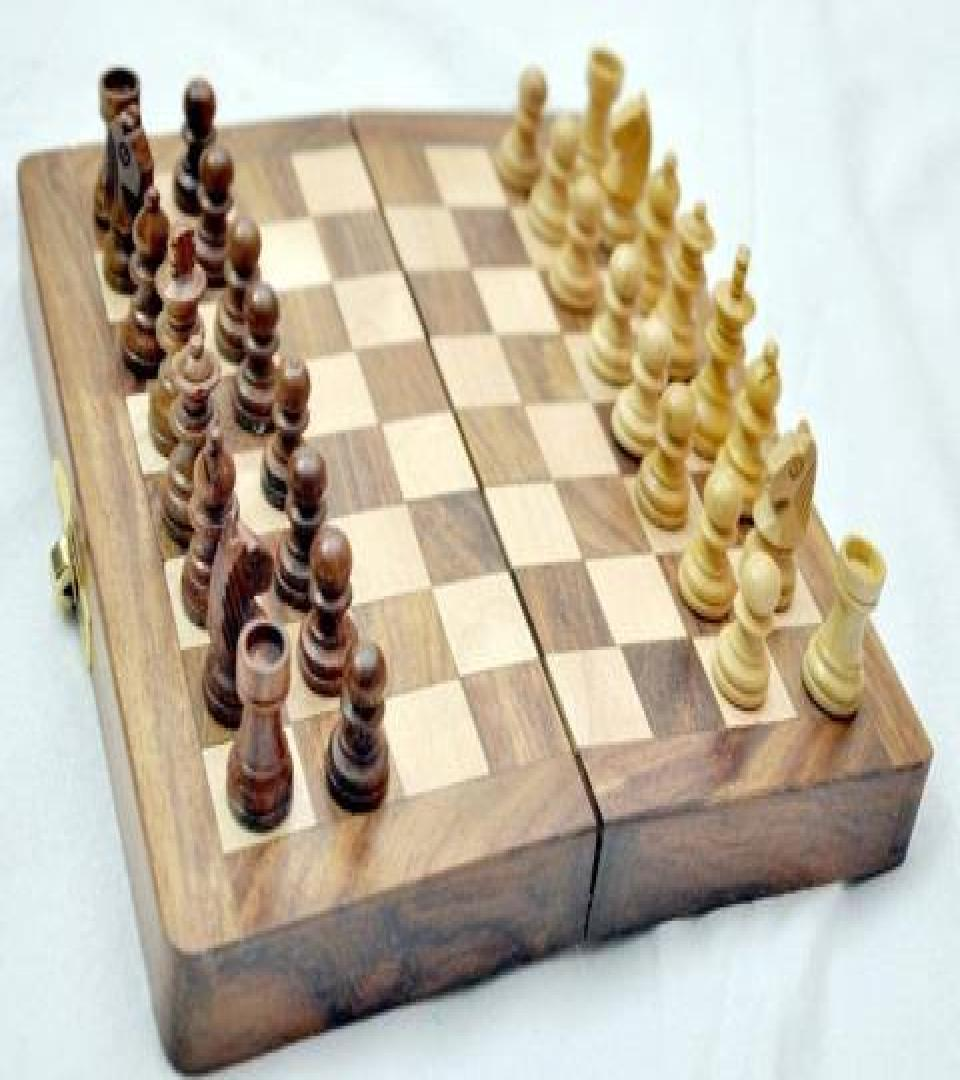xcorner: (605, 648, 623, 679), (678, 633, 696, 664), (420, 587, 438, 618), (571, 560, 589, 591), (643, 548, 661, 579), (235, 528, 253, 559), (315, 516, 333, 547), (539, 479, 557, 510), (677, 457, 695, 488), (214, 445, 232, 476), (292, 435, 310, 466), (440, 413, 458, 444), (578, 394, 596, 425), (644, 384, 662, 415), (195, 369, 213, 400), (343, 350, 361, 381), (482, 333, 500, 364), (549, 325, 567, 356), (177, 296, 195, 327), (584, 252, 602, 283), (432, 203, 450, 234), (495, 198, 513, 229), (557, 191, 575, 222), (282, 713, 300, 743), (367, 696, 385, 726), (449, 679, 467, 709), (528, 664, 546, 694), (750, 618, 768, 648), (257, 618, 275, 648), (340, 603, 358, 633), (497, 574, 515, 604), (712, 535, 730, 565), (392, 503, 410, 533), (467, 491, 485, 521), (609, 469, 627, 499), (367, 425, 385, 455), (510, 405, 528, 435), (270, 359, 288, 389), (414, 342, 432, 372), (613, 317, 631, 347), (250, 288, 268, 318), (321, 281, 339, 311), (390, 273, 408, 303), (456, 266, 474, 296), (521, 259, 539, 289), (160, 229, 178, 259), (231, 222, 249, 252), (300, 215, 318, 245), (367, 210, 385, 240)
